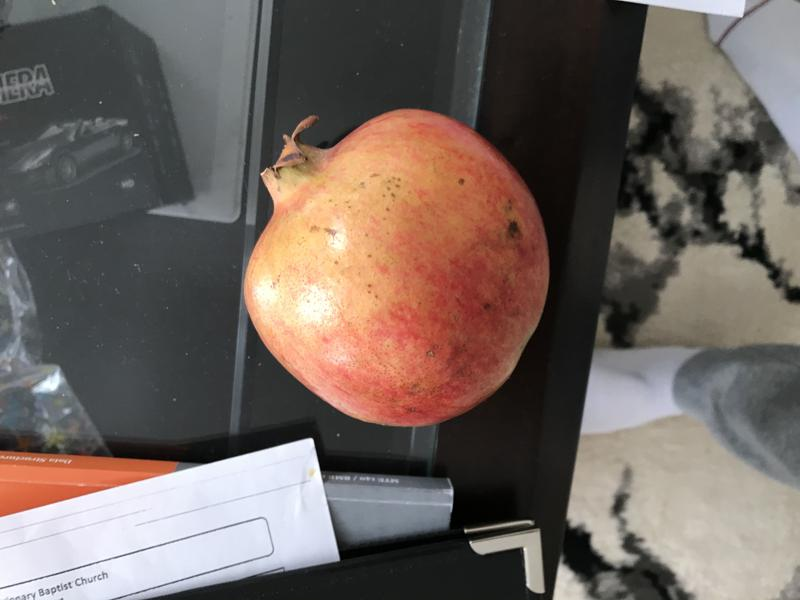pomegranate: (224, 95, 560, 436)
